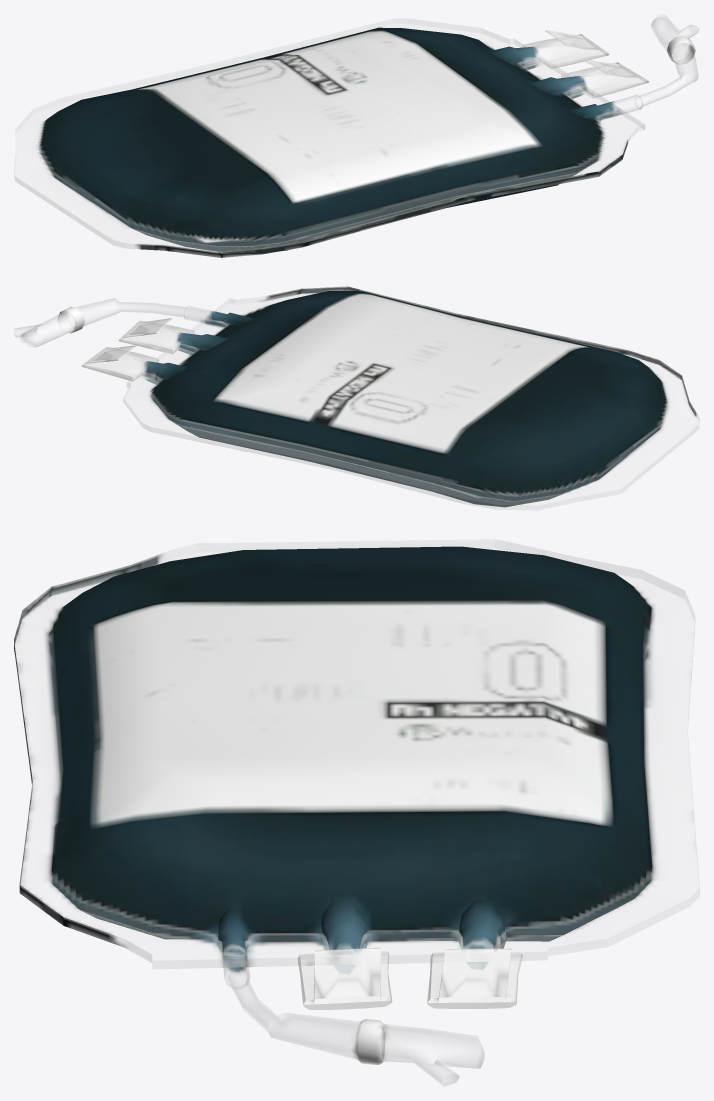
File: saline_bag.0151bd807c.glb
3 renders of one model, top to bottom at view 1: azimuth 30°, elevation 25°; view 2: azimuth 150°, elevation 25°; view 3: azimuth 270°, elevation 25°, orthographic. The views are drawn at different scales.
Parts seen in each view (by area): view 1: saline_bag; view 2: saline_bag; view 3: saline_bag.
Boxes of the visible parts, x1,y1,x2,y2 form: saline_bag: (14,14,699,257); saline_bag: (14,286,699,510); saline_bag: (14,539,699,1086).
Size of the model in its own units: 0.24 by 0.0218 by 0.1301.
1 material, 1 textured.
